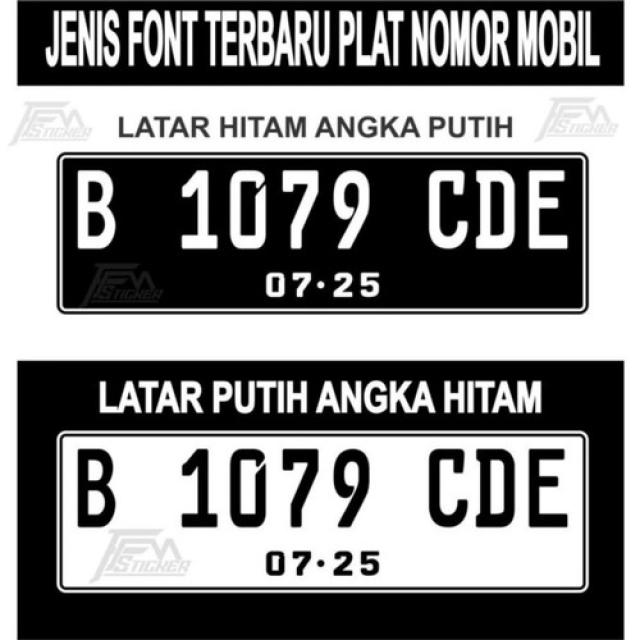lisence-plate: (39, 416, 602, 613), (42, 142, 590, 325)
